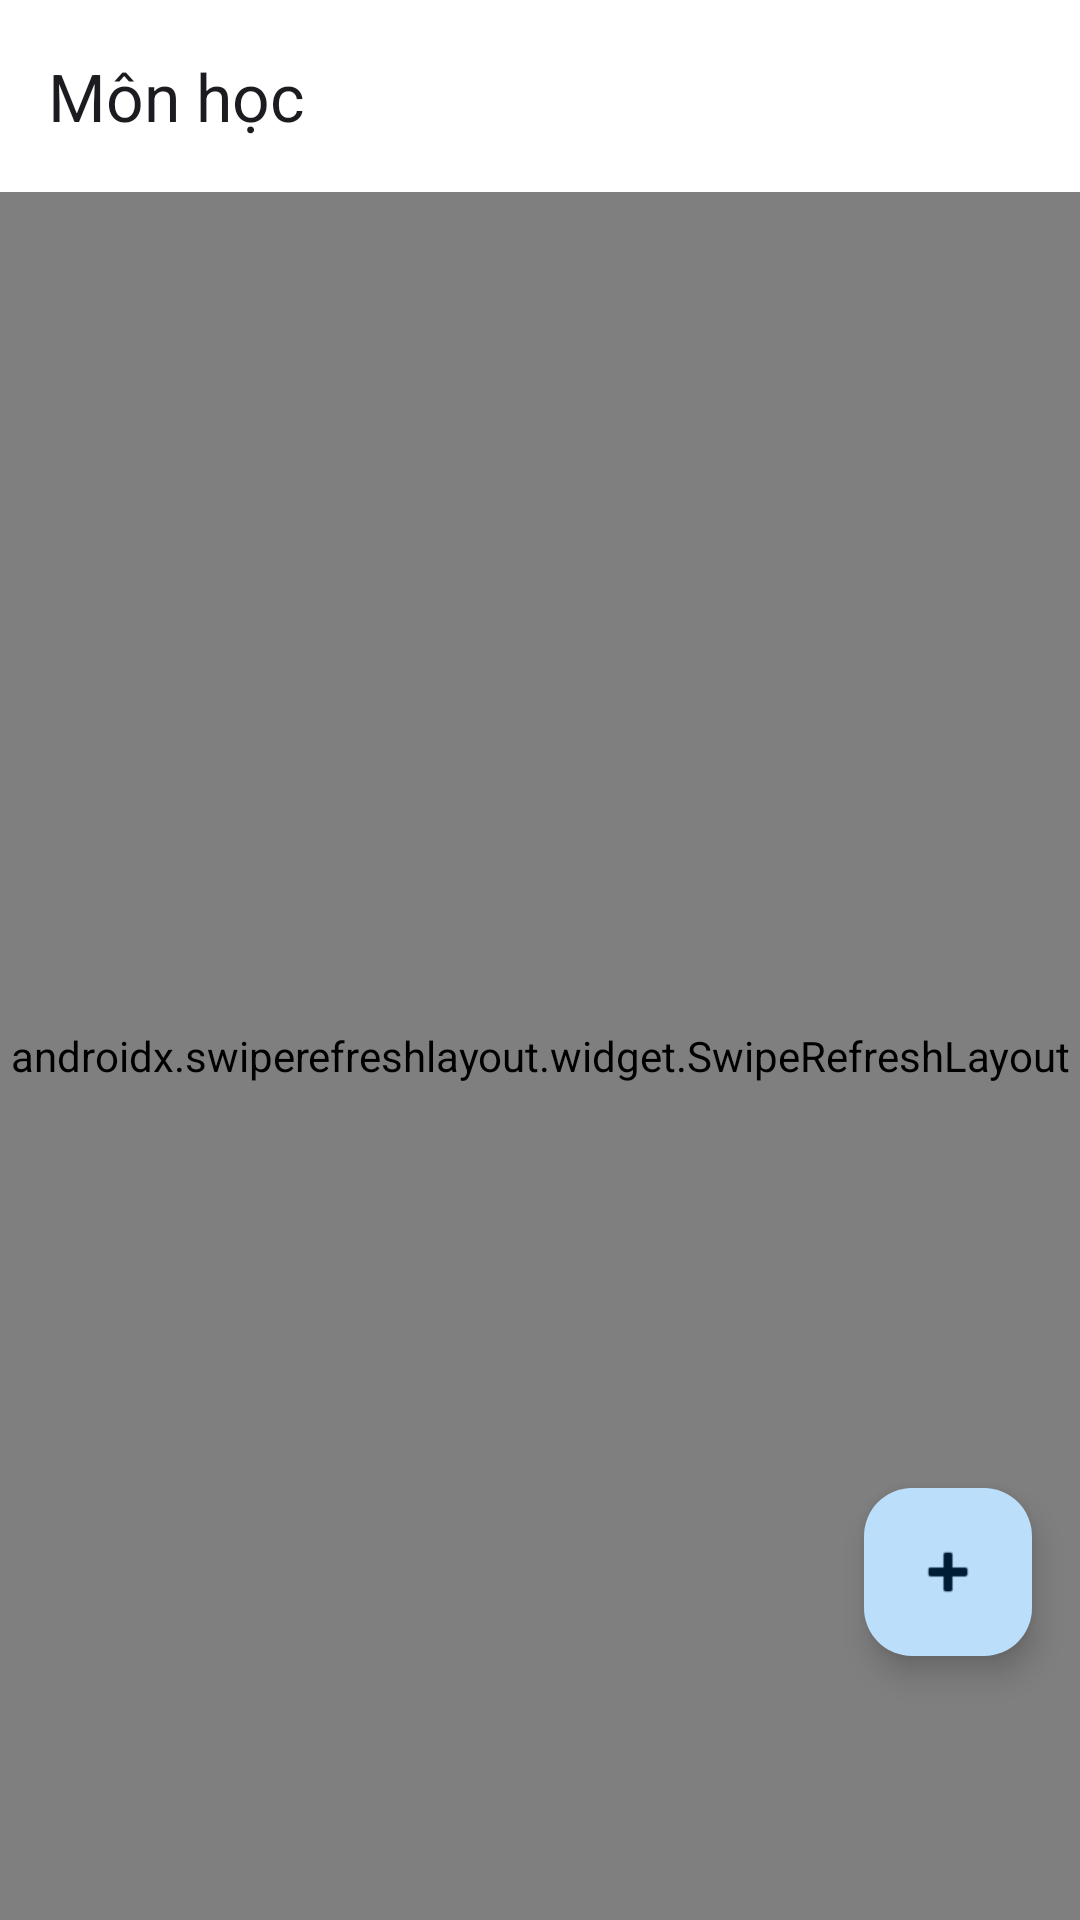

Point at icon controls on the screen. Image size 1080px×1920px, points as (x=x, y=y).
Thêm mới: (x=948, y=1572)
